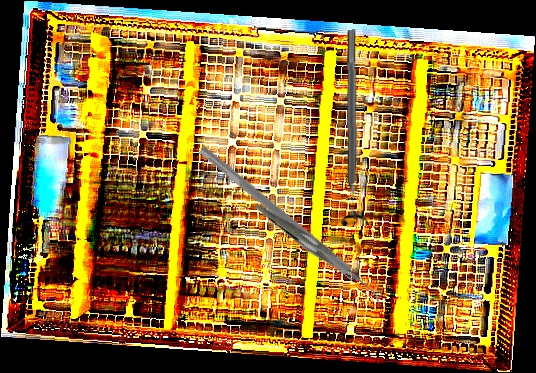Dressing Forceps: (254, 179, 361, 302)
Fixation Ring: (335, 29, 371, 226)
Spatula Surgical: (192, 145, 390, 311)
